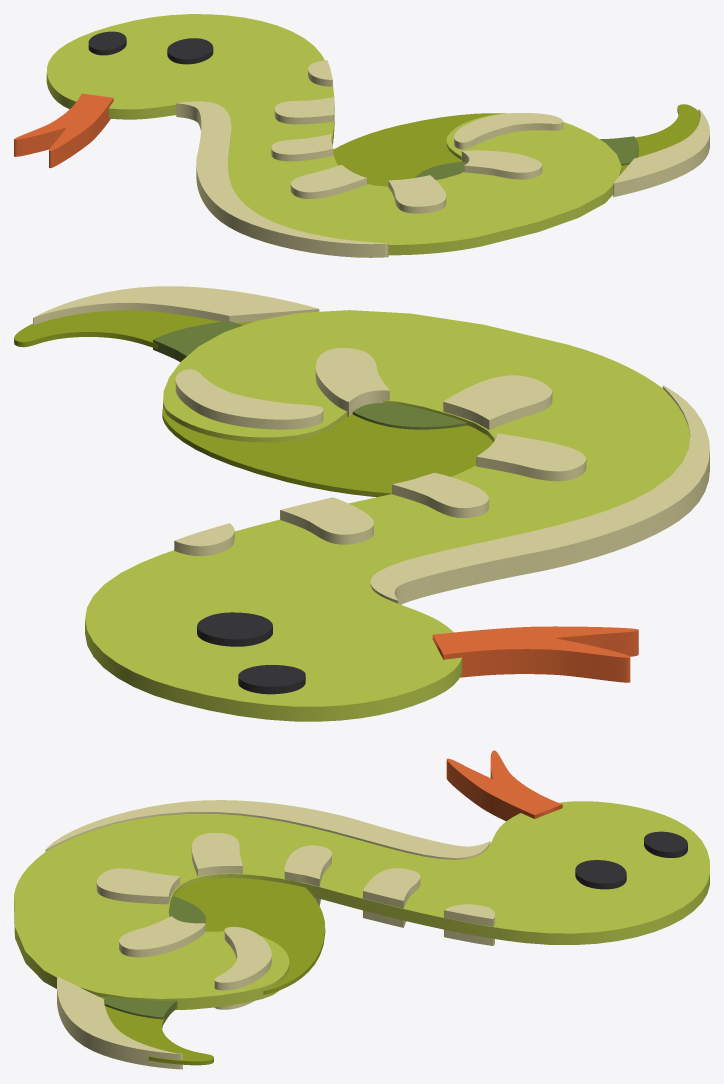
Rendered from emoji_u1f40d.glb.
3 renders of one model, top to bottom at view 1: azimuth 30°, elevation 25°; view 2: azimuth 150°, elevation 25°; view 3: azimuth 270°, elevation 25°, orthographic. The views are drawn at different scales.
Visible parts, largest first — view 1: emoji_u1f40d; view 2: emoji_u1f40d; view 3: emoji_u1f40d.
Boxes of the visible parts, x1=… form: emoji_u1f40d: x1=14, y1=14, x2=709, y2=257; emoji_u1f40d: x1=14, y1=286, x2=709, y2=721; emoji_u1f40d: x1=14, y1=750, x2=709, y2=1069.
Bounding box in the file's own units: 0.0337 × 0.0014 × 0.0327.
